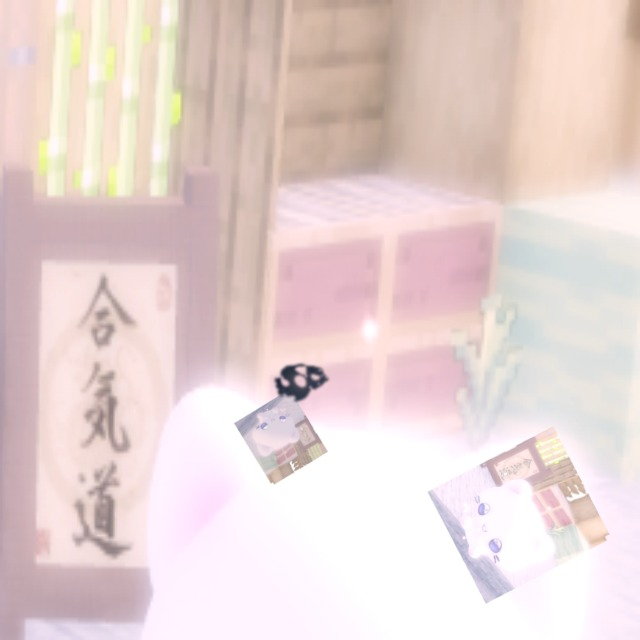urso_branco: (427, 426, 612, 604), (234, 389, 328, 486)
urso_preto: (270, 352, 337, 410)
